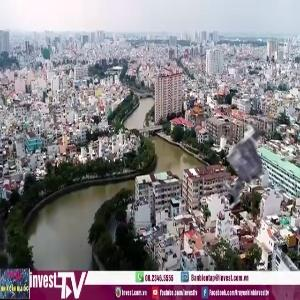drone: (195, 111, 299, 215)
